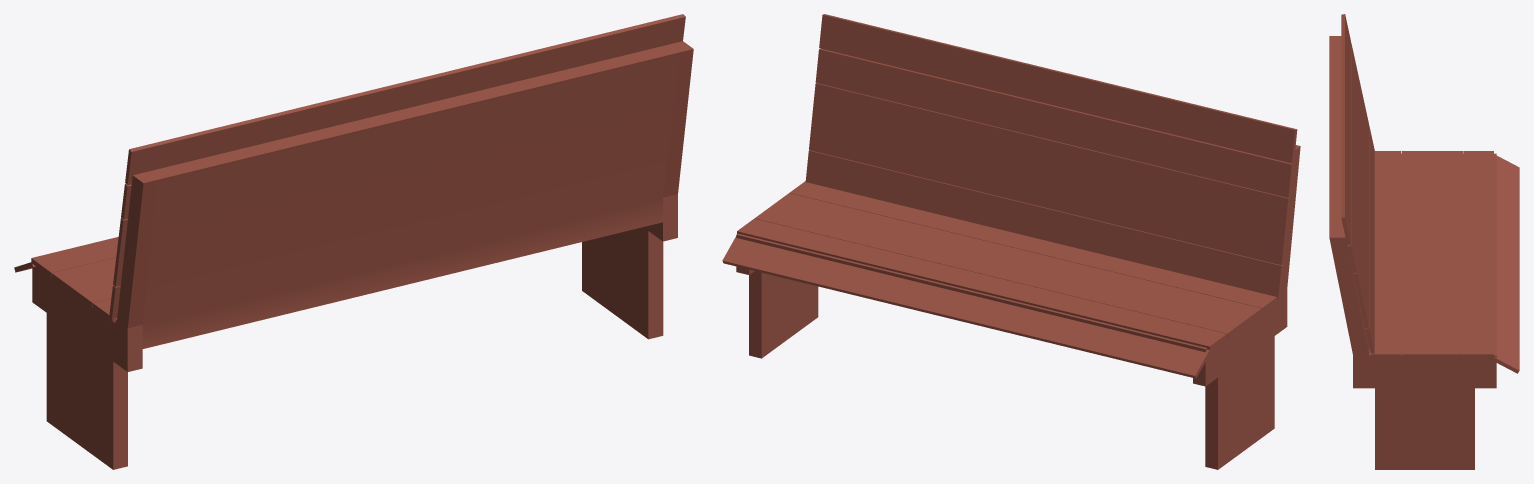
File: Bank.fbx
The picture shows the model from 3 angles, left to right: view 1: azimuth 30°, elevation 25°; view 2: azimuth 150°, elevation 25°; view 3: azimuth 270°, elevation 25°; orthographic projection. The views are drawn at different scales.
Visible parts, largest first — view 1: pCube1035; view 2: pCube1035; view 3: pCube1035.
Part boxes in pixels (x1,y1,x2,y2): pCube1035: (14,14,693,469); pCube1035: (722,14,1300,469); pCube1035: (1329,14,1519,469).
Size of the model in its own units: 0.6479 by 0.3747 by 0.2557.
